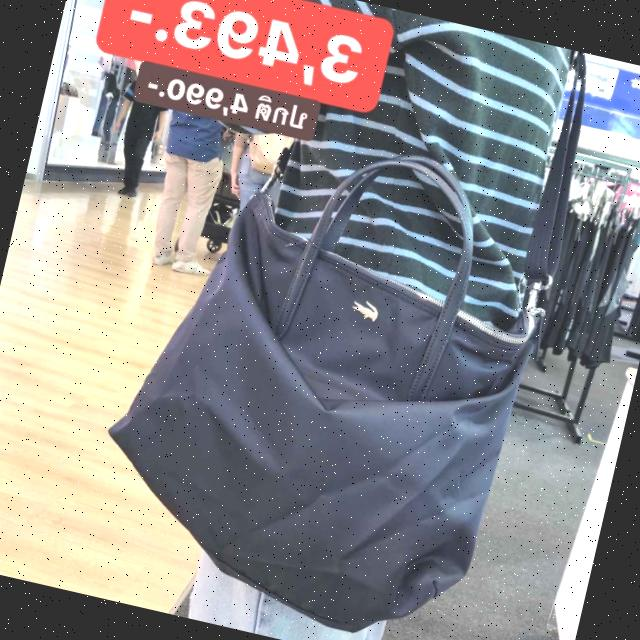Handbag: (67, 167, 551, 640)
